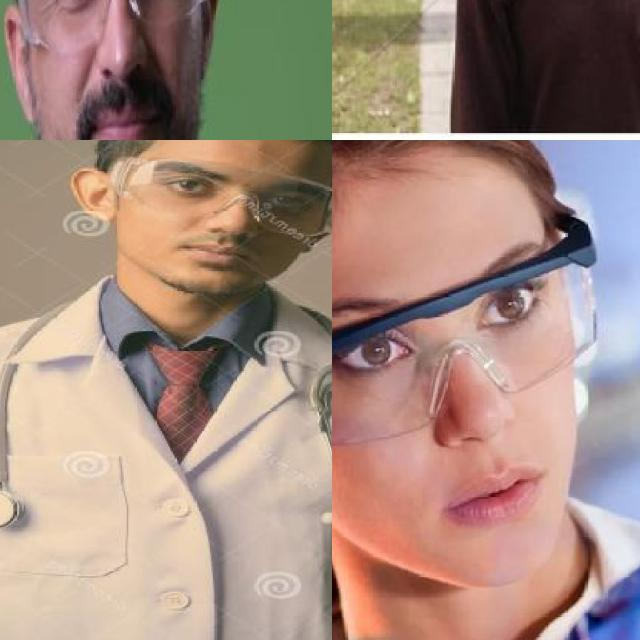No_Ear-Protection: (67, 164, 120, 225)
face_mask: (105, 154, 332, 240)
face_nomask: (332, 268, 560, 541), (16, 0, 210, 140), (152, 156, 308, 276)
glasses: (332, 209, 601, 451), (13, 0, 210, 62)
hand_glove: (543, 494, 640, 640)
head_nohelmet: (332, 140, 544, 242)
person: (0, 140, 332, 640), (0, 0, 332, 140), (450, 0, 640, 140)
